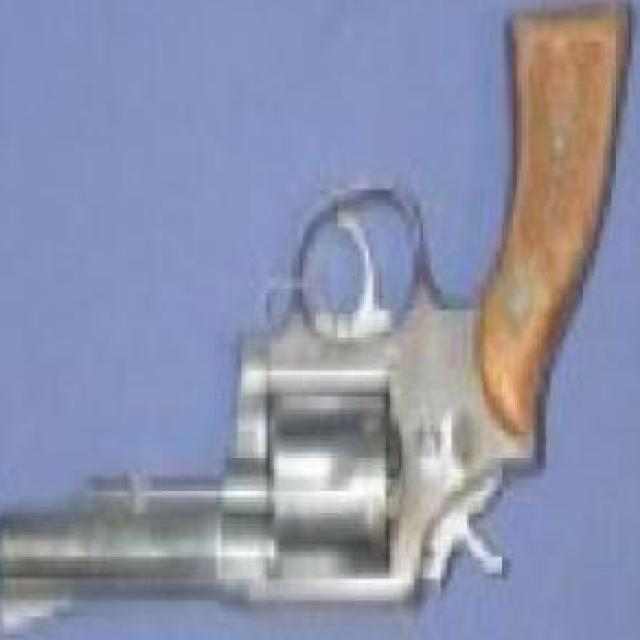pistol: (0, 14, 622, 638)
